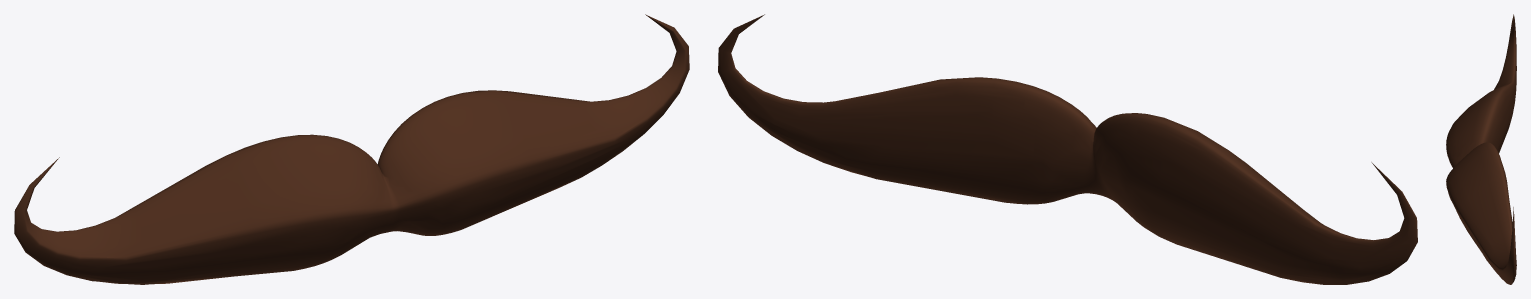
3 views of the same model, side by side, from view 1: azimuth 30°, elevation 25°; view 2: azimuth 150°, elevation 25°; view 3: azimuth 270°, elevation 25° (orthographic). The views are drawn at different scales.
Parts seen in each view (by area): view 1: beardMustacheSir; view 2: beardMustacheSir; view 3: beardMustacheSir.
Part boxes in pixels (x1=…): beardMustacheSir: x1=14, y1=14, x2=689, y2=284; beardMustacheSir: x1=718, y1=14, x2=1417, y2=284; beardMustacheSir: x1=1446, y1=14, x2=1516, y2=284.
Size of the model in its own units: 0.2826 by 0.0592 by 0.038.
Materials: 1 (1 with a texture image).
